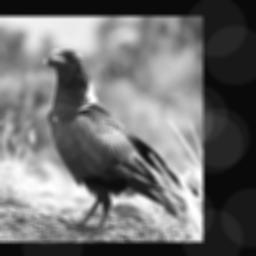Crow: (39, 45, 186, 240)
